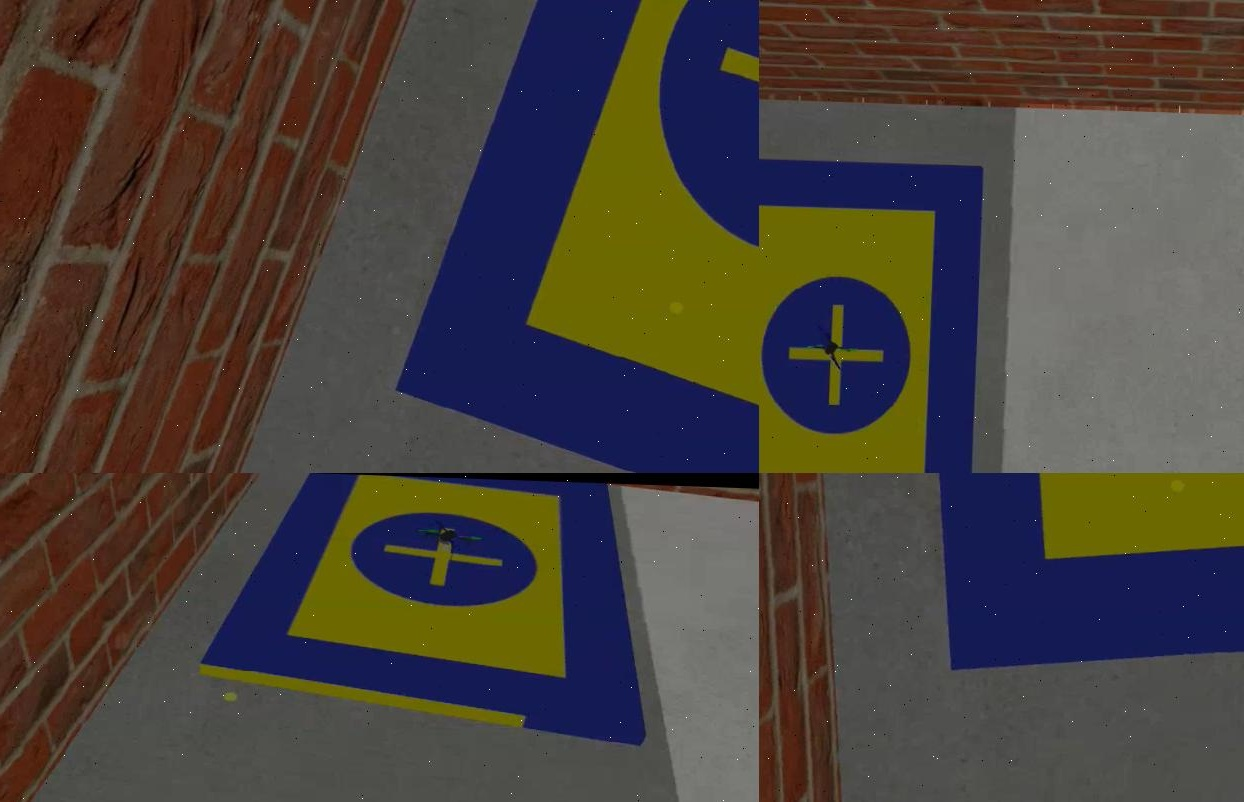large_base: (391, 1, 757, 473), (190, 473, 653, 747), (885, 473, 1242, 693), (757, 153, 984, 473)
